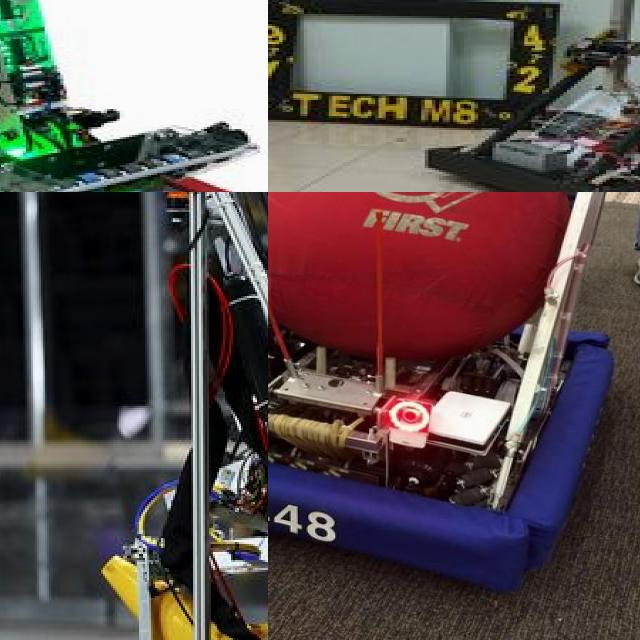FRC-Robots: (268, 192, 640, 594), (0, 192, 268, 640), (0, 0, 268, 192), (438, 0, 640, 192)
